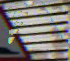Speed Breaker ahead: (0, 5, 31, 60)
